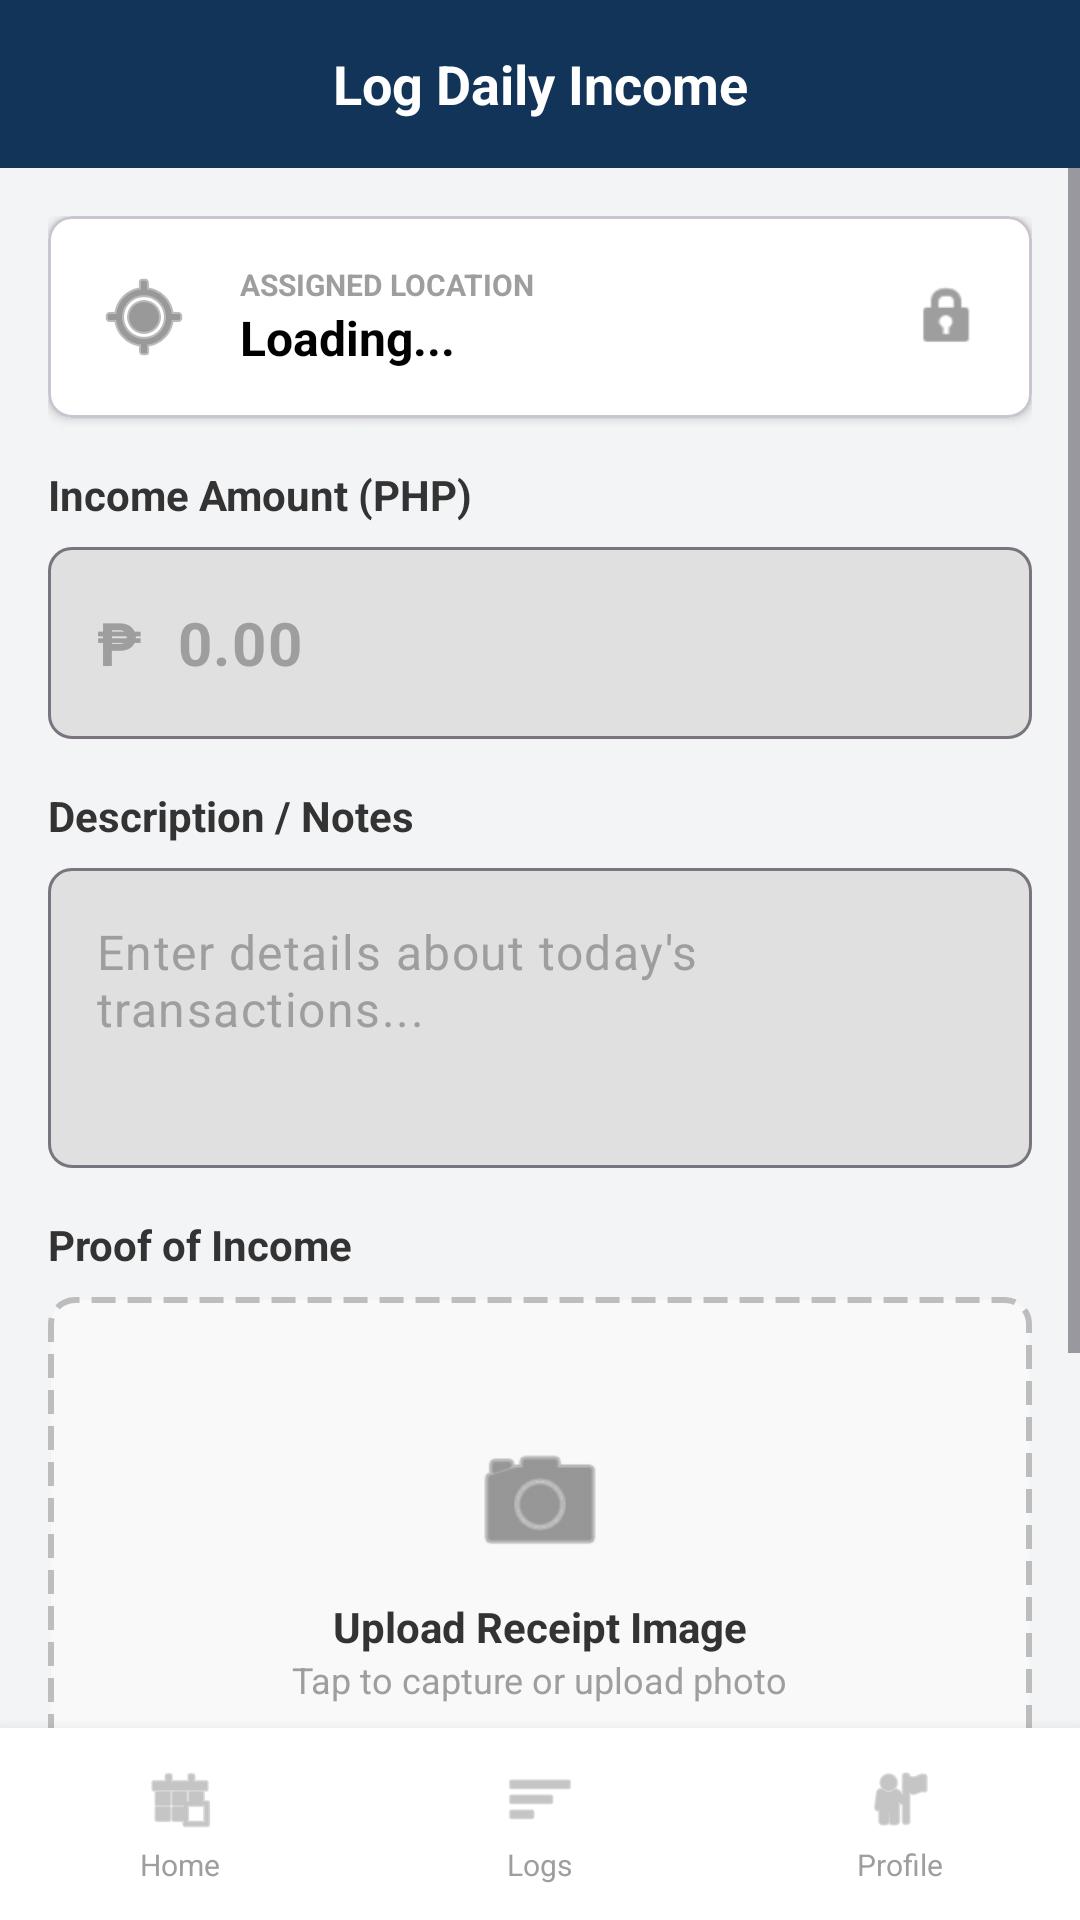

Named icons in this screenshot (1080x1920) and their centers, (x=x, y=y):
camera: (x=540, y=1500)
lock idle: (x=946, y=315)
mylocation: (x=144, y=317)
sort by size: (x=540, y=1799)
today: (x=181, y=1800)
